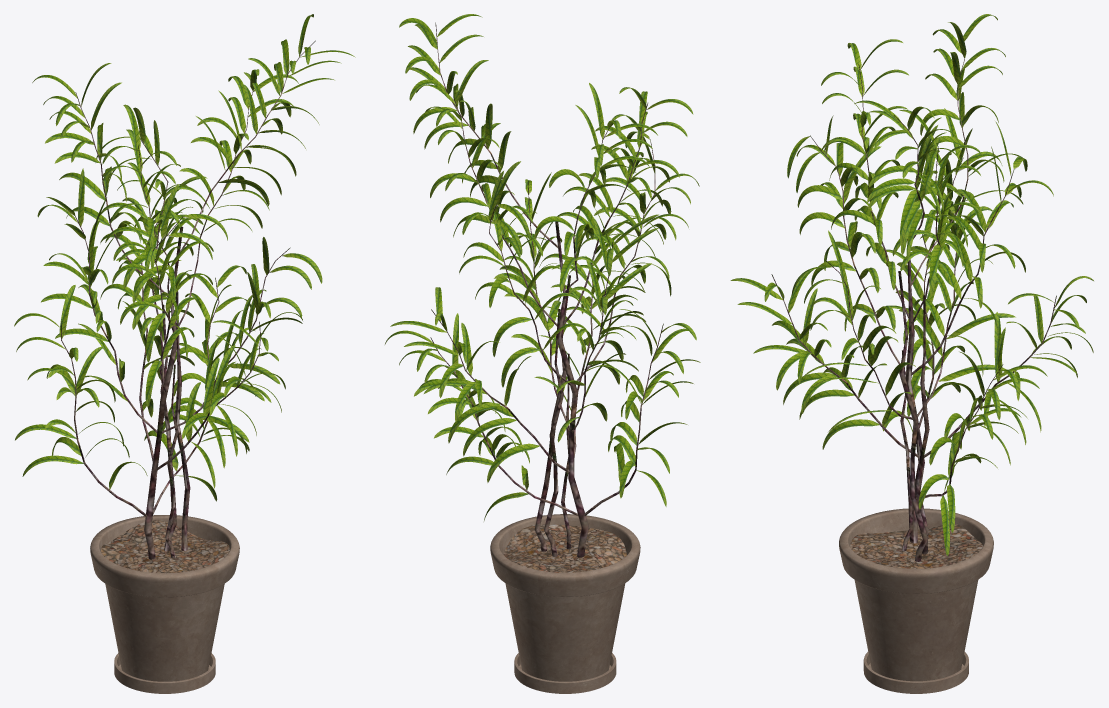
The model's file is MEGA_PACK_Plant__plant-151348_chocolate_frame.glb.
The picture shows the model from 3 angles, left to right: view 1: azimuth 30°, elevation 25°; view 2: azimuth 150°, elevation 25°; view 3: azimuth 270°, elevation 25°; orthographic projection. The views are drawn at different scales.
Visible parts, largest first — view 1: plant-151348_chocolate__frame; view 2: plant-151348_chocolate__frame; view 3: plant-151348_chocolate__frame.
Part boxes in pixels (<box>): plant-151348_chocolate__frame: <box>14,14,355,693</box>; plant-151348_chocolate__frame: <box>385,14,700,693</box>; plant-151348_chocolate__frame: <box>730,14,1093,693</box>.
Size of the model in its own units: 0.3946 by 0.7481 by 0.3862.
Materials: 1 (1 with a texture image).
